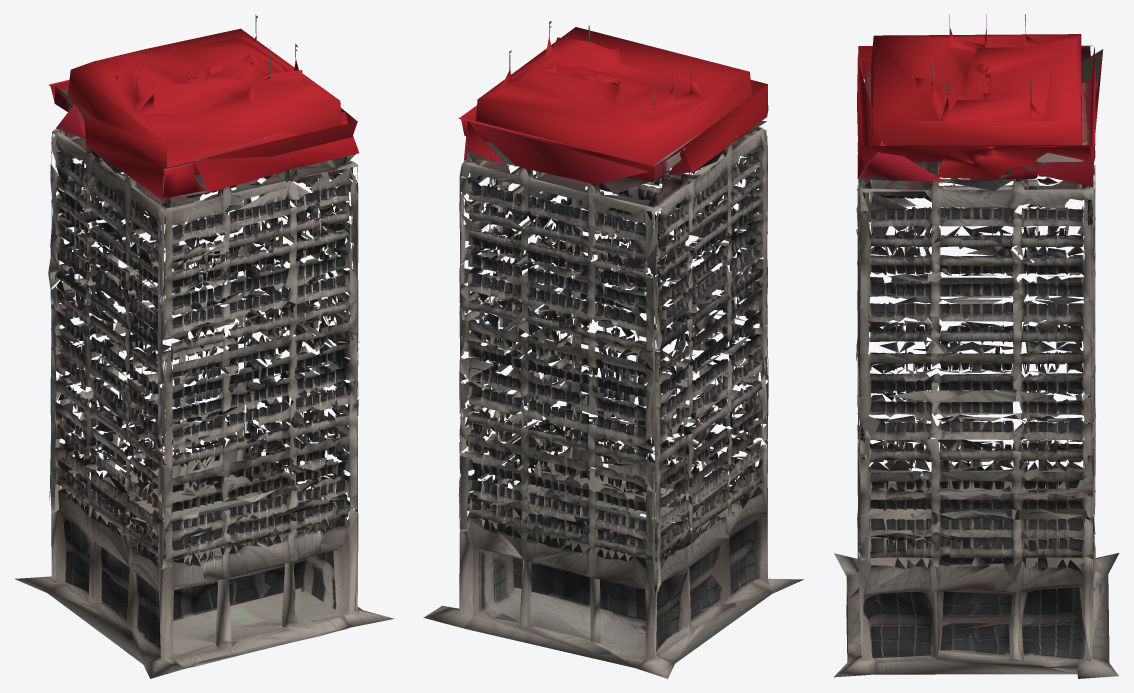
Rendered from JHB_CBDTower_LOD0.fbx.
The picture shows the model from 3 angles, left to right: view 1: azimuth 30°, elevation 25°; view 2: azimuth 150°, elevation 25°; view 3: azimuth 270°, elevation 25°; orthographic projection. The views are drawn at different scales.
Visible parts, largest first — view 1: JHB_CBDTower_Windows, JHB_CBDTower_GroundFloor, JHB_CBDTower_BlankRedBand, JHB_CBDTower_Shell, JHB_CBDTower_Entrance; view 2: JHB_CBDTower_Windows, JHB_CBDTower_GroundFloor, JHB_CBDTower_BlankRedBand, JHB_CBDTower_Shell, JHB_CBDTower_Entrance; view 3: JHB_CBDTower_Windows, JHB_CBDTower_GroundFloor, JHB_CBDTower_BlankRedBand, JHB_CBDTower_Shell, JHB_CBDTower_Entrance.
Boxes of the visible parts, x1,y1,x2,y2 form: JHB_CBDTower_Windows: [49, 127, 358, 568]; JHB_CBDTower_GroundFloor: [15, 411, 394, 678]; JHB_CBDTower_BlankRedBand: [50, 28, 357, 199]; JHB_CBDTower_Shell: [48, 79, 359, 562]; JHB_CBDTower_Entrance: [157, 525, 348, 668]; JHB_CBDTower_Windows: [459, 99, 768, 592]; JHB_CBDTower_GroundFloor: [423, 429, 803, 678]; JHB_CBDTower_BlankRedBand: [458, 27, 767, 182]; JHB_CBDTower_Shell: [459, 121, 767, 545]; JHB_CBDTower_Entrance: [573, 444, 742, 531]; JHB_CBDTower_Windows: [857, 57, 1095, 572]; JHB_CBDTower_GroundFloor: [834, 459, 1119, 678]; JHB_CBDTower_BlankRedBand: [857, 25, 1095, 179]; JHB_CBDTower_Shell: [856, 46, 1103, 547]; JHB_CBDTower_Entrance: [846, 499, 931, 655].
Size of the model in its own units: 15.49 by 34 by 14.96.
Materials: 2 (1 with a texture image).
